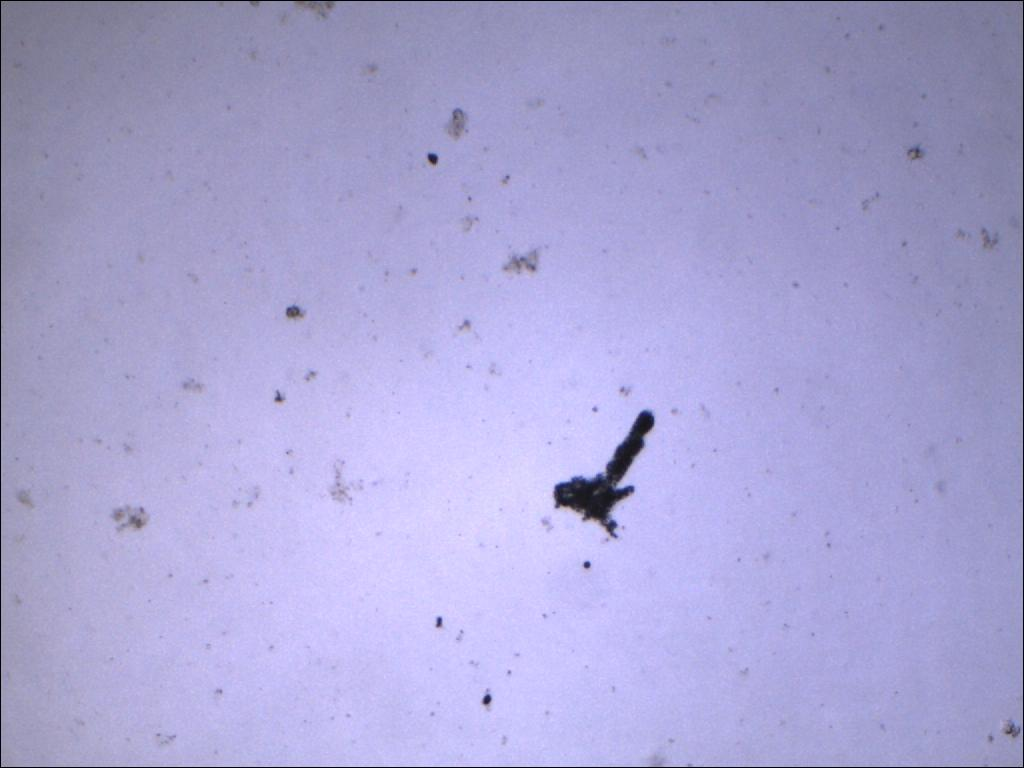amoeba: (545, 405, 661, 545)
